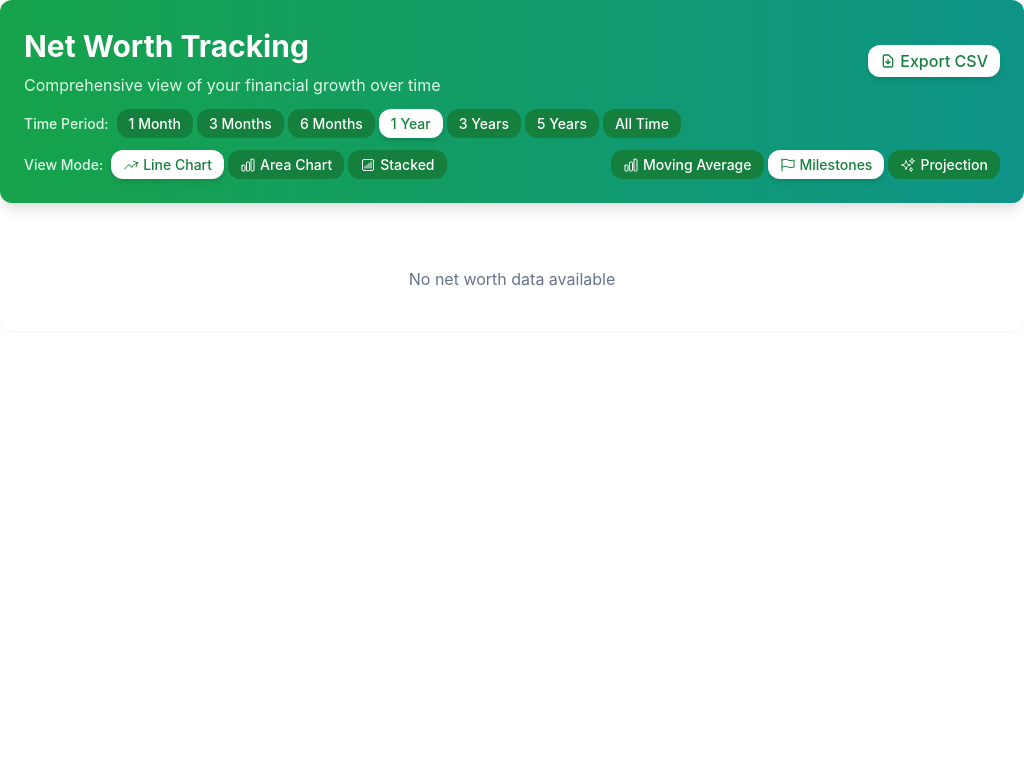
Test: NetWorthDashboard › toggles projection view
Click the button "Projection" at {"x": 944, "y": 164}, box [888,150,1000,179]
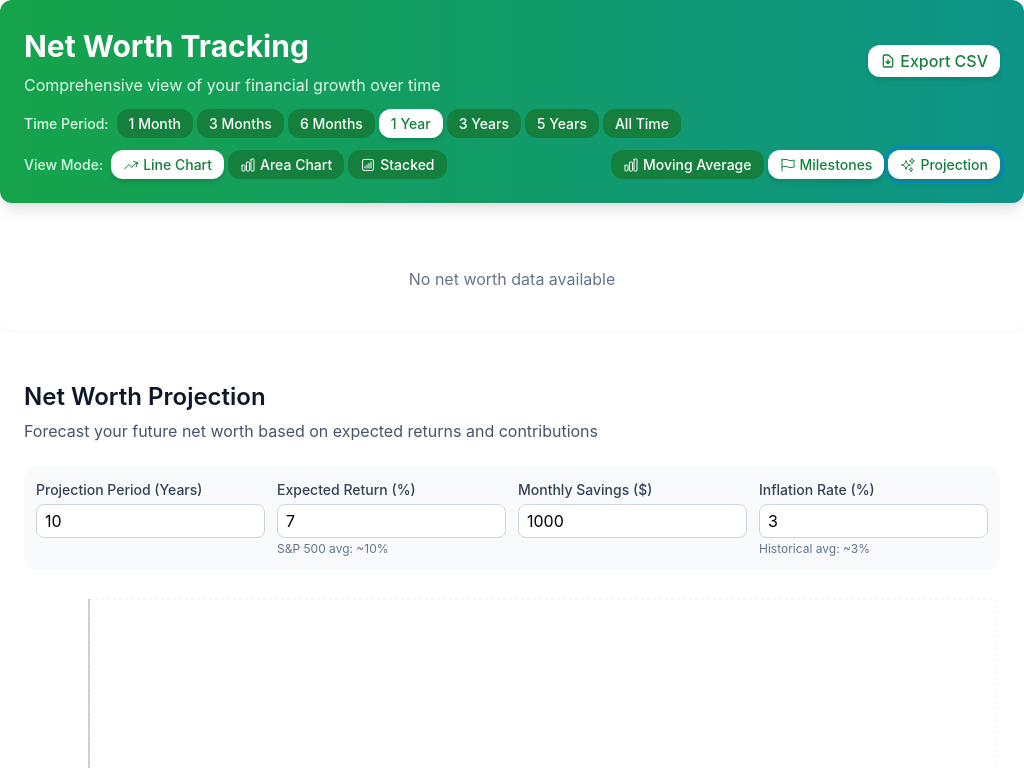
Now the heading "Net Worth Projection" is shown, box [24,382,266,411]
